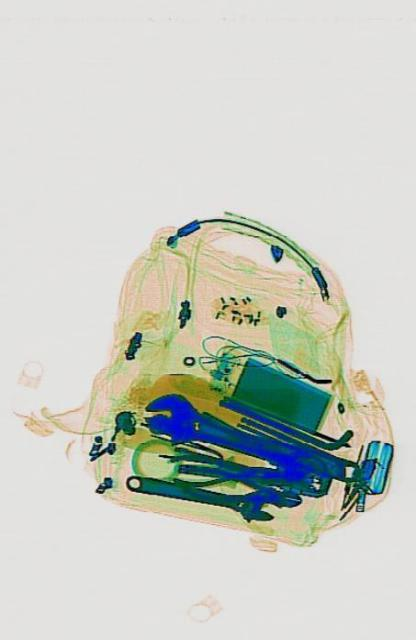Wrench: (139, 384, 360, 498), (123, 462, 279, 526)
